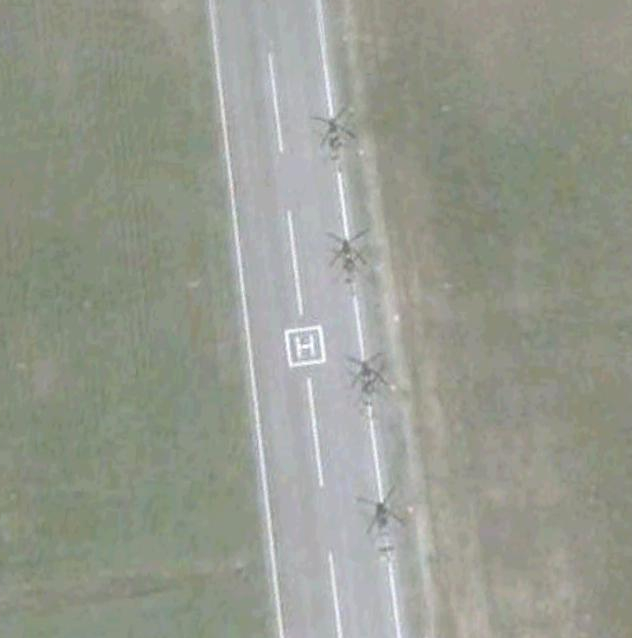heliport: (290, 332, 319, 359)
